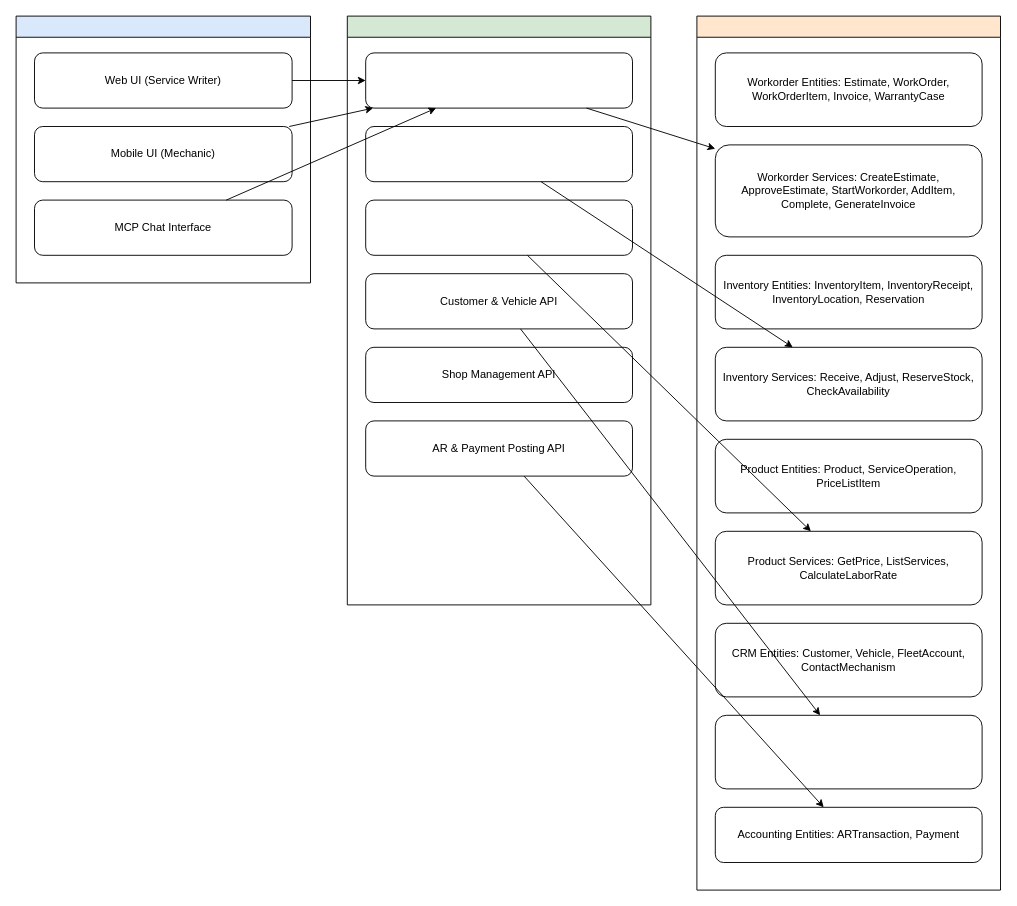
Some shapes in this 1017 by 906 pixel diagram are drawn without their labels. The shapes that lost their labels are listed below. From the top down, each one's box as (x1, y1, x2, y2) in pixels, then its label:
(365, 52, 632, 108): Workorder Orchestration API
(15, 15, 310, 283): UI Layer
(365, 126, 632, 182): Inventory Availability API
(365, 199, 632, 255): Pricing Lookup API
(346, 15, 651, 605): Experience Service Layer
(696, 15, 1000, 890): Moqui Base Services & Entity Engine
(714, 714, 982, 789): CRM Services: CreateCustomer, LookupCustomer, AddVehicle, GetVehiclesForCustomer
